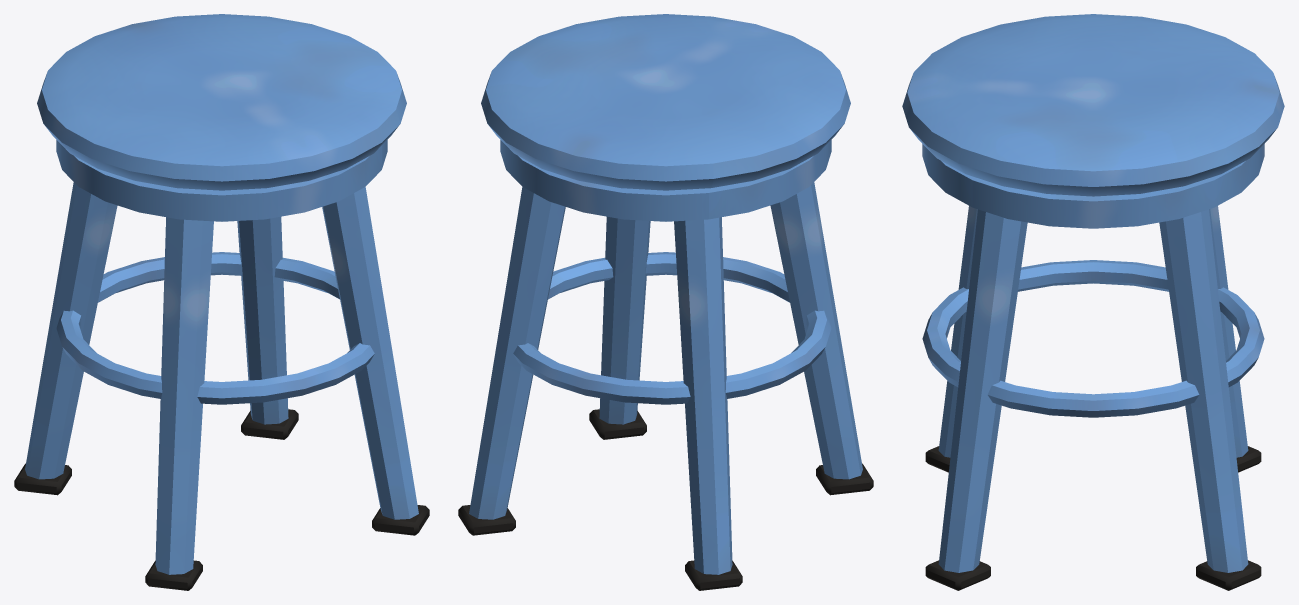
Rendered from stool_plastic_blue.glb.
The picture shows the model from 3 angles, left to right: view 1: azimuth 30°, elevation 25°; view 2: azimuth 150°, elevation 25°; view 3: azimuth 270°, elevation 25°; orthographic projection. The views are drawn at different scales.
Visible parts, largest first — view 1: stool_plastic_blue__plastic_blue, stool_plastic_blue__rubber_black; view 2: stool_plastic_blue__plastic_blue, stool_plastic_blue__rubber_black; view 3: stool_plastic_blue__plastic_blue, stool_plastic_blue__rubber_black.
Boxes of the visible parts, bbox=[...] form: stool_plastic_blue__plastic_blue: bbox=[25, 14, 418, 574]; stool_plastic_blue__rubber_black: bbox=[14, 409, 429, 590]; stool_plastic_blue__plastic_blue: bbox=[469, 14, 862, 574]; stool_plastic_blue__rubber_black: bbox=[458, 409, 873, 590]; stool_plastic_blue__plastic_blue: bbox=[902, 14, 1284, 572]; stool_plastic_blue__rubber_black: bbox=[925, 446, 1261, 590].
Bounding box in the file's own units: 0.38 × 0.477 × 0.38.
Materials: 2 (1 with a texture image).
